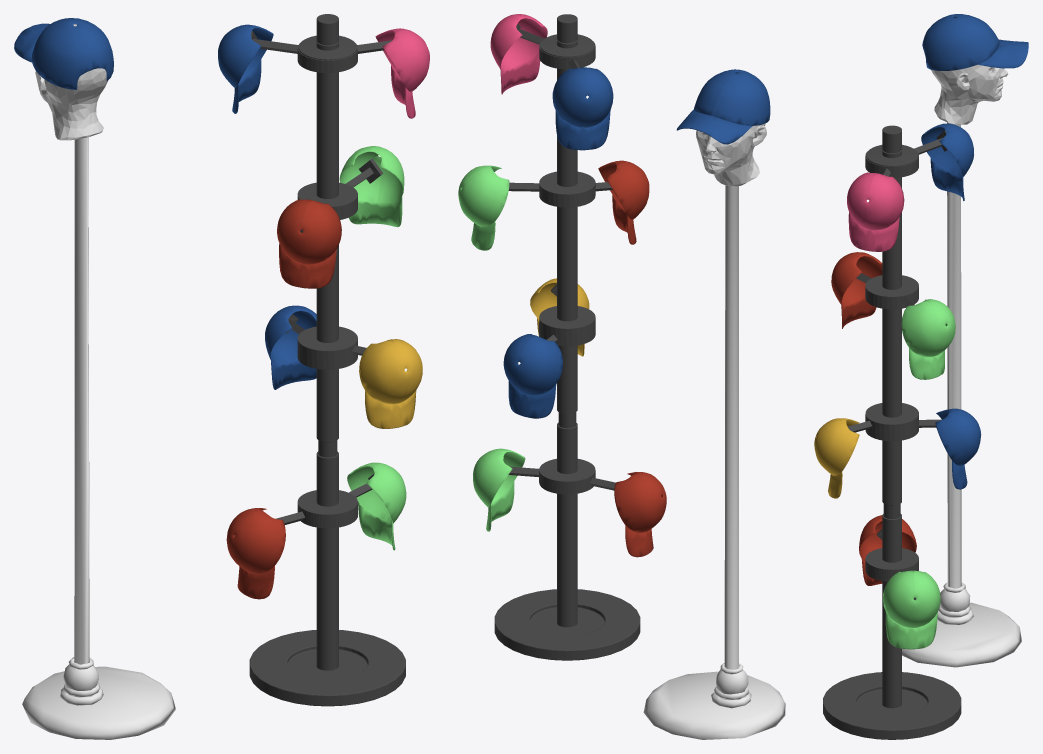
Rendered from Sports_Caps.fbx.
3 renders of one model, left to right at view 1: azimuth 30°, elevation 25°; view 2: azimuth 150°, elevation 25°; view 3: azimuth 270°, elevation 25°, orthographic. The views are drawn at different scales.
Parts seen in each view (by area): view 1: 11091_FemaleHead_v4.002, Cylinder01.009, baseballCap.008, baseballCap.007, baseballCap.004, baseballCap.001, baseballCap.006, baseballCap.005, baseballCap.003, baseballCap.002, Cylinder01.016, Cylinder01.017 (+5 smaller); view 2: 11091_FemaleHead_v4.002, Cylinder01.009, baseballCap.005, baseballCap.003, baseballCap.004, baseballCap.002, baseballCap.001, baseballCap.006, baseballCap.008, Cylinder01.013, Cylinder01.017, Cylinder01.016 (+6 smaller); view 3: 11091_FemaleHead_v4.002, Cylinder01.009, baseballCap.006, baseballCap.002, baseballCap.001, baseballCap.005, baseballCap.008, baseballCap.003, baseballCap.007, Cylinder01.016, baseballCap.004, Cylinder01.013 (+5 smaller).
Part boxes in pixels (left/top/right/bottom): 11091_FemaleHead_v4.002: left=14, top=18, right=175, bottom=739; Cylinder01.009: left=249, top=14, right=405, bottom=706; baseballCap.008: left=277, top=199, right=341, bottom=288; baseballCap.007: left=359, top=339, right=422, bottom=428; baseballCap.004: left=226, top=508, right=285, bottom=599; baseballCap.001: left=339, top=146, right=404, bottom=227; baseballCap.006: left=347, top=462, right=406, bottom=550; baseballCap.005: left=218, top=24, right=273, bottom=113; baseballCap.003: left=265, top=305, right=316, bottom=389; baseballCap.002: left=375, top=28, right=429, bottom=118; Cylinder01.016: left=297, top=326, right=366, bottom=363; Cylinder01.017: left=297, top=474, right=374, bottom=526; 11091_FemaleHead_v4.002: left=643, top=69, right=785, bottom=739; Cylinder01.009: left=494, top=14, right=640, bottom=660; baseballCap.005: left=552, top=67, right=613, bottom=150; baseballCap.003: left=503, top=334, right=562, bottom=418; baseballCap.004: left=614, top=472, right=666, bottom=557; baseballCap.002: left=490, top=14, right=547, bottom=94; baseballCap.001: left=458, top=165, right=509, bottom=250; baseballCap.006: left=473, top=448, right=525, bottom=531; baseballCap.008: left=598, top=160, right=649, bottom=244; Cylinder01.013: left=508, top=171, right=595, bottom=205; Cylinder01.017: left=508, top=458, right=595, bottom=493; Cylinder01.016: left=539, top=284, right=595, bottom=340; 11091_FemaleHead_v4.002: left=902, top=14, right=1028, bottom=667; Cylinder01.009: left=823, top=125, right=961, bottom=739; baseballCap.006: left=883, top=570, right=940, bottom=649; baseballCap.002: left=847, top=172, right=904, bottom=251; baseballCap.001: left=901, top=299, right=955, bottom=379; baseballCap.005: left=921, top=123, right=973, bottom=200; baseballCap.008: left=831, top=252, right=882, bottom=328; baseballCap.003: left=935, top=408, right=981, bottom=489; baseballCap.007: left=814, top=418, right=859, bottom=498; Cylinder01.016: left=848, top=403, right=918, bottom=435; baseballCap.004: left=859, top=515, right=916, bottom=585; Cylinder01.013: left=865, top=275, right=918, bottom=307.
Bounding box in the file's own units: 192 × 360 × 114.
